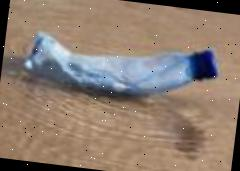plastic: (18, 24, 221, 108)
